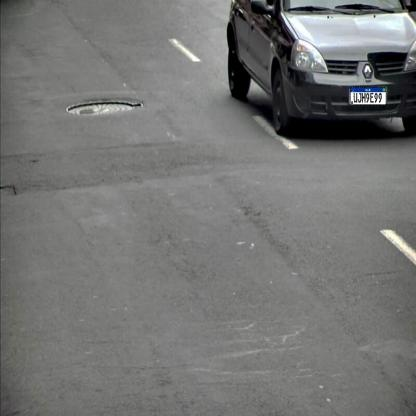PlacaM: (350, 87, 386, 105)
